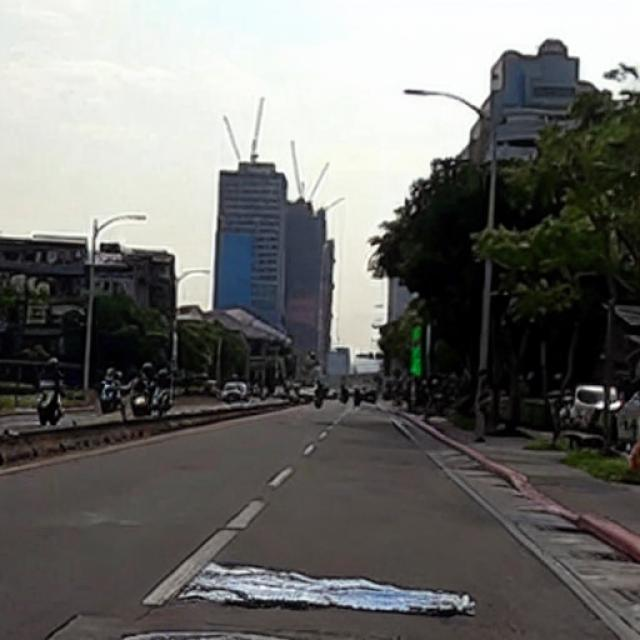puddle: (186, 559, 471, 614)
